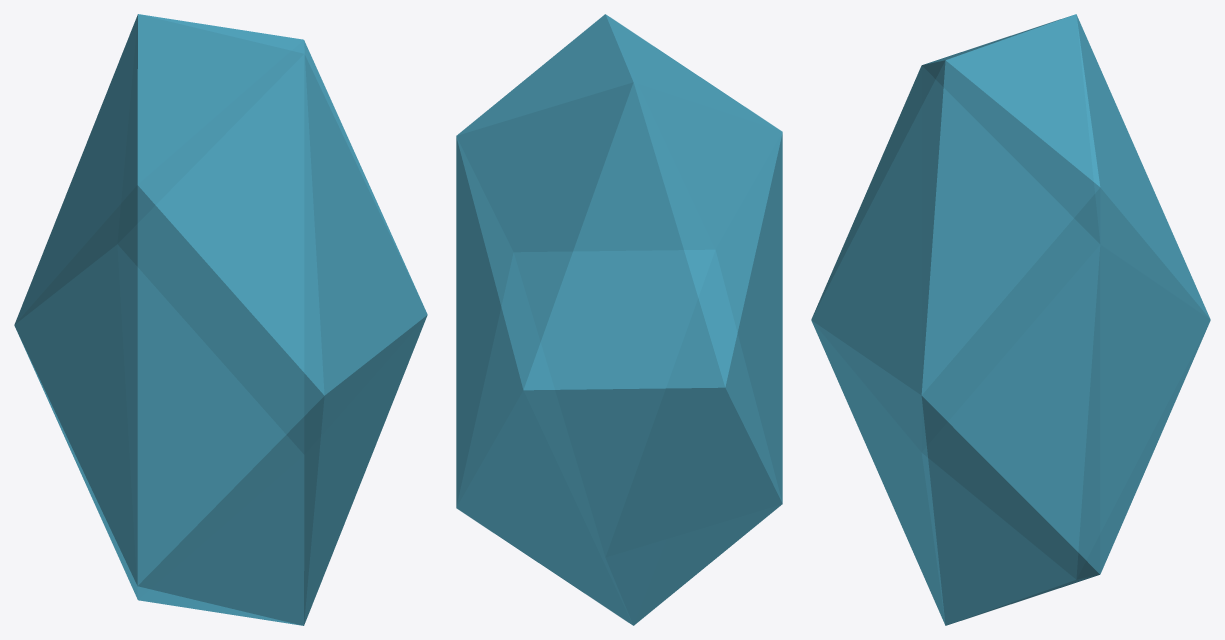
File: SM_Crystal_01.fbx
3 renders of one model, left to right at view 1: azimuth 30°, elevation 25°; view 2: azimuth 150°, elevation 25°; view 3: azimuth 270°, elevation 25°, orthographic. The views are drawn at different scales.
Visible parts, largest first — view 1: pPlatonic1; view 2: pPlatonic1; view 3: pPlatonic1.
Part boxes in pixels (bbox=[...]): pPlatonic1: bbox=[14, 14, 427, 625]; pPlatonic1: bbox=[456, 14, 782, 625]; pPlatonic1: bbox=[811, 14, 1210, 625].
Size of the model in its own units: 45.06 by 78.67 by 50.37.
